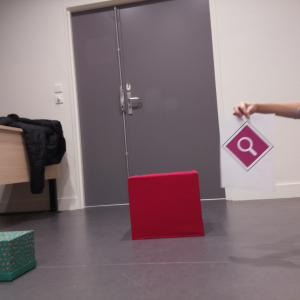medium: (127, 170, 208, 241)
small: (1, 227, 36, 285)
